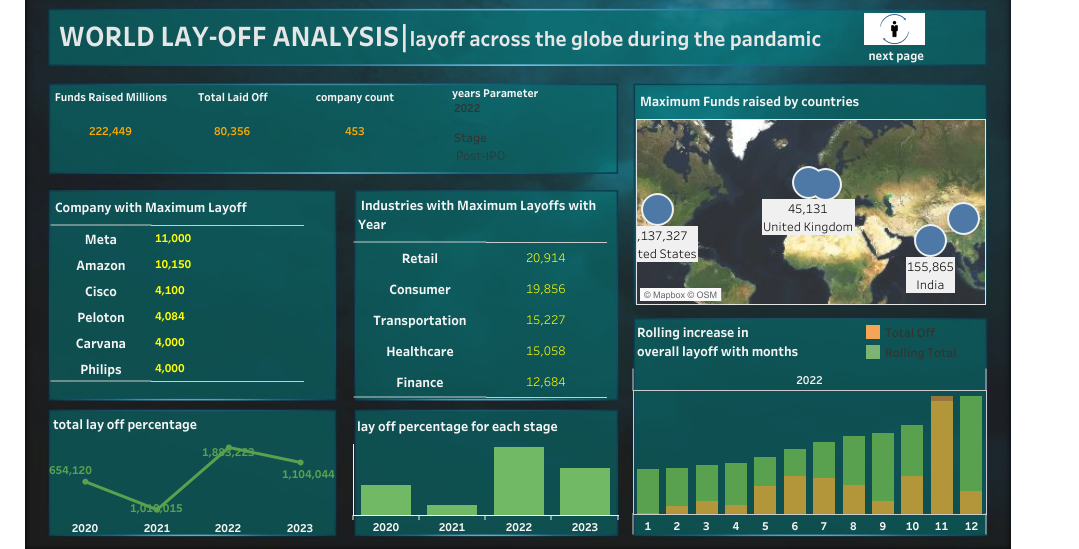

Layout of this report page (visuals, bound fields, positions):
{"tool":"tableau","page":{"name":"dashboard1","canvas":[1080,550],"ordinal":0},"visuals":[{"type":"dashboard-object","box":[864,12,61,34]},{"type":"text","box":[56,14,802,42]},{"type":"text","box":[866,45,64,19]},{"type":"worksheet","title":"kpy","mark":"Automatic","box":[50,84,417,90]},{"type":"parameter","param":"[Parameters].[years Parameter]","box":[452,84,160,42]},{"type":"worksheet","title":"Sheet 2","mark":"Automatic","box":[636,85,350,220]},{"type":"filter","title":"lay off percentage for each stage ","param":"[federated.1ryh55y0i9xtkl17nzmnn0ai57m3].[none:stage:nk]","box":[454,127,160,44]},{"type":"worksheet","title":"Sheet 3","mark":"Automatic","rows":["industry"],"box":[354,189,264,212]},{"type":"worksheet","title":"Sheet 1","mark":"Automatic","rows":["Company"],"box":[51,191,284,209]},{"type":"worksheet","title":"Sheet 4","mark":"Bar","rows":["rolling_total","total_off"],"box":[633,316,354,219]},{"type":"legend","title":"Sheet 4","param":"[federated.10o34b007a7qax18npn1x1mghcr8].[:Measure Names]","box":[863,322,110,56]},{"type":"worksheet","title":"total lay off percentage","mark":"Line","rows":["total_off"],"box":[49,408,287,128]},{"type":"worksheet","title":"lay off percentage for each stage ","mark":"Automatic","rows":["percentage_laid_off"],"cols":["date - Split 1"],"box":[353,410,265,125]}]}

Visuals, with their boxes in screenshot pixels (x1, y1, x2, y2), scaled from the page's 1080x550 canvas onto the 1079x549 screenshot:
dashboard-object: (863,12,924,46)
text: (56,14,857,56)
text: (865,45,929,64)
"kpy" worksheet: (50,84,467,174)
parameter: (452,84,611,126)
"Sheet 2" worksheet: (635,85,985,304)
"lay off percentage for each stage " filter: (454,127,613,171)
"Sheet 3" worksheet: (354,189,617,400)
"Sheet 1" worksheet: (51,191,335,399)
"Sheet 4" worksheet (Bar marks): (632,315,986,534)
"Sheet 4" legend: (862,321,972,377)
"total lay off percentage" worksheet (Line marks): (49,407,336,535)
"lay off percentage for each stage " worksheet: (353,409,617,534)
